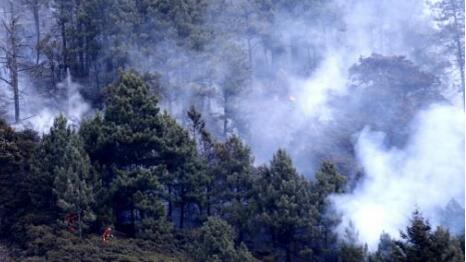smoke: (1, 2, 466, 141), (323, 110, 465, 249)
